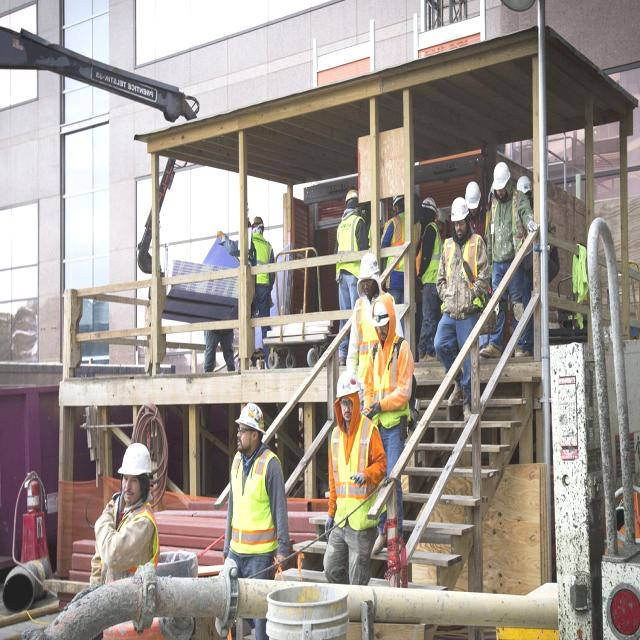face_nomask: (118, 474, 144, 509), (232, 419, 260, 448), (339, 396, 355, 424), (452, 217, 467, 241)
glasses: (339, 398, 356, 410), (236, 424, 250, 436)
hand_glove: (350, 466, 370, 490)
head_helmet: (116, 438, 153, 476), (370, 293, 395, 325), (236, 402, 266, 427), (332, 371, 361, 396), (486, 164, 511, 192), (357, 252, 378, 282), (465, 180, 482, 210), (448, 197, 465, 222), (517, 176, 533, 196), (421, 198, 440, 212)
person: (320, 370, 376, 590), (95, 439, 158, 626), (222, 403, 280, 577), (328, 176, 364, 366), (371, 295, 403, 468), (244, 212, 274, 371), (446, 197, 468, 408), (350, 256, 379, 365), (419, 198, 439, 336), (387, 196, 408, 294), (492, 163, 515, 252), (465, 174, 483, 242), (520, 173, 538, 223)
vest: (228, 446, 274, 549), (331, 422, 372, 526), (102, 502, 157, 576), (366, 338, 405, 411), (444, 237, 478, 310), (333, 214, 365, 272), (490, 195, 519, 254), (418, 222, 444, 280), (380, 220, 411, 266), (352, 299, 374, 362), (248, 239, 272, 284)
